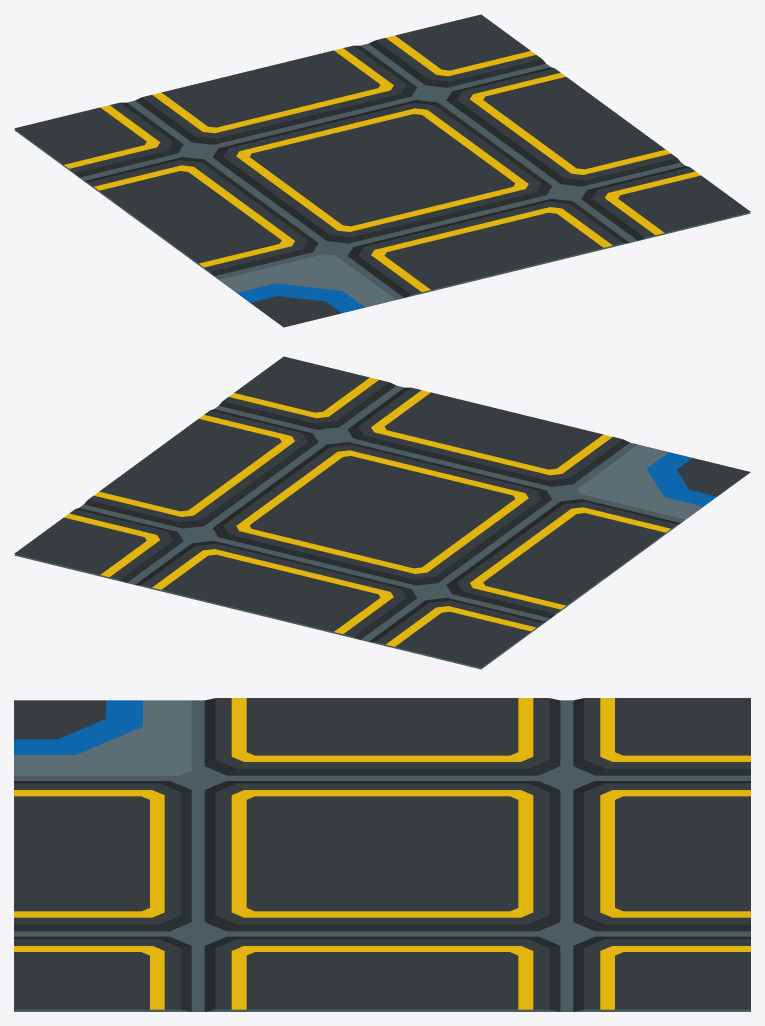
The model's file is Floor_type_C_034.fbx.
3 renders of one model, top to bottom at view 1: azimuth 30°, elevation 25°; view 2: azimuth 150°, elevation 25°; view 3: azimuth 270°, elevation 25°, orthographic. The views are drawn at different scales.
Parts seen in each view (by area): view 1: Floor_type_C_034; view 2: Floor_type_C_034; view 3: Floor_type_C_034.
Part boxes in pixels (x1,y1,x2,y2): Floor_type_C_034: (14, 14, 750, 327); Floor_type_C_034: (14, 356, 750, 669); Floor_type_C_034: (14, 698, 750, 1011).
Bounding box in the file's own units: 400 × 400 × 1.34.
